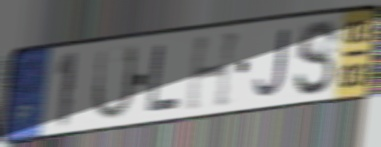1: (54, 48, 80, 131)
H: (183, 28, 244, 114)
J: (252, 27, 290, 100)
L: (145, 41, 183, 115)
S: (292, 18, 342, 99)
U: (90, 42, 141, 123)
